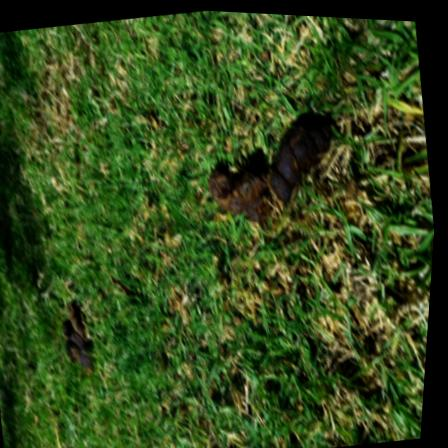dog-poop: (199, 105, 330, 238), (51, 294, 115, 363)
